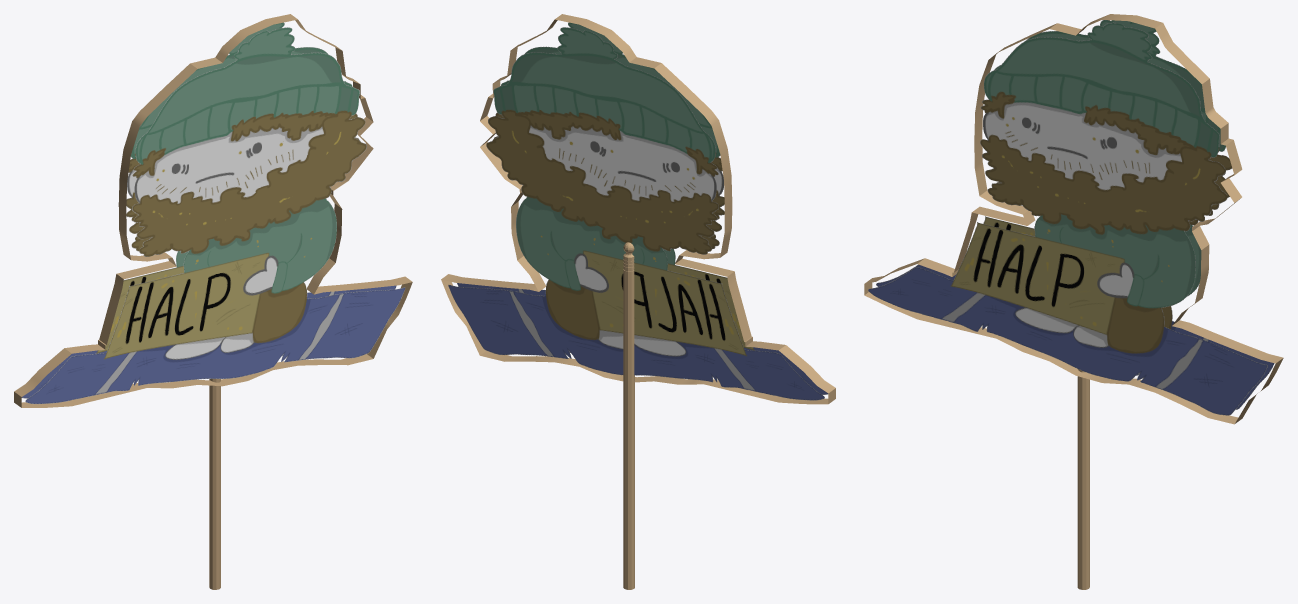
Rendered from Escena3_Pordiosero.fbx.
3 renders of one model, left to right at view 1: azimuth 30°, elevation 25°; view 2: azimuth 150°, elevation 25°; view 3: azimuth 330°, elevation 25°, orthographic. The views are drawn at different scales.
Visible parts, largest first — view 1: SCN_03_02; view 2: SCN_03_02; view 3: SCN_03_02.
Boxes of the visible parts, x1,y1,x2,y2 form: SCN_03_02: [14, 14, 412, 589]; SCN_03_02: [441, 14, 835, 589]; SCN_03_02: [864, 14, 1283, 589].
Size of the model in its own units: 0.1259 by 0.171 by 0.0058.
